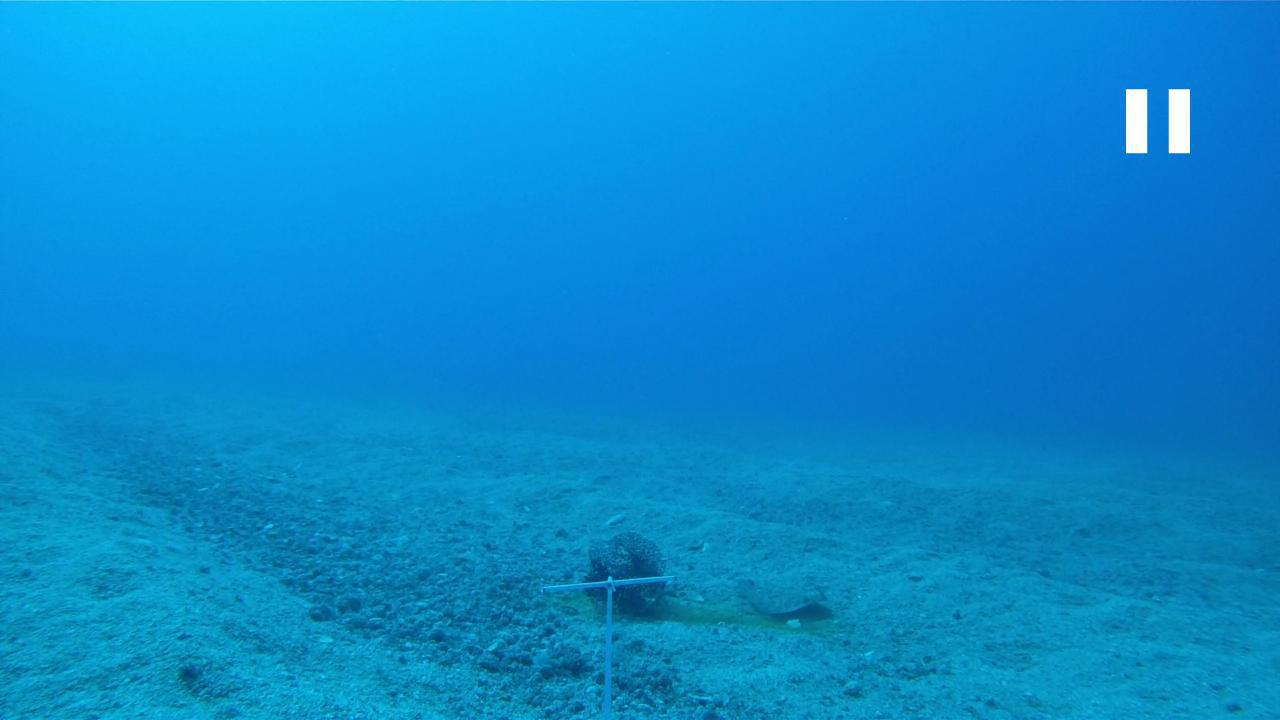bothus: (732, 578, 828, 616)
